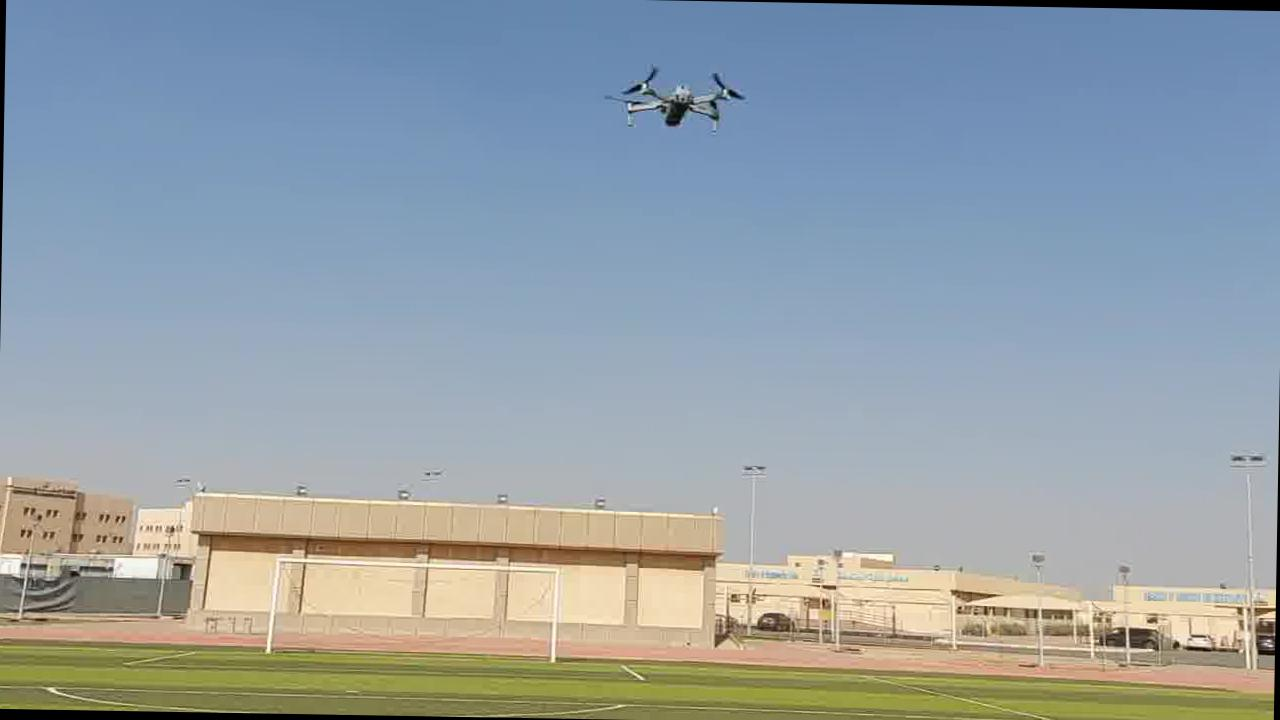drone: (607, 52, 756, 138)
